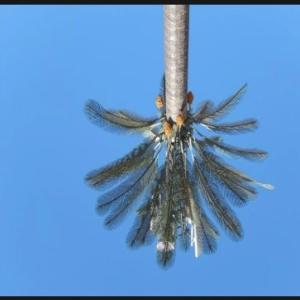palm tree: (82, 5, 273, 270)
